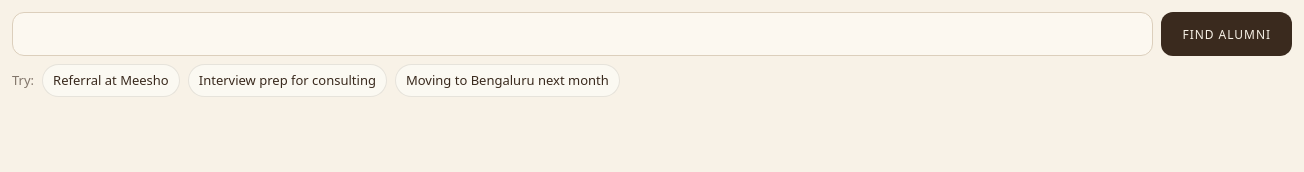
Test: HomeAskBox › asks for more words instead of submitting an empty question
Click the button "Find alumni". click: {"x": 1227, "y": 34}
box: [1162, 12, 1292, 56]
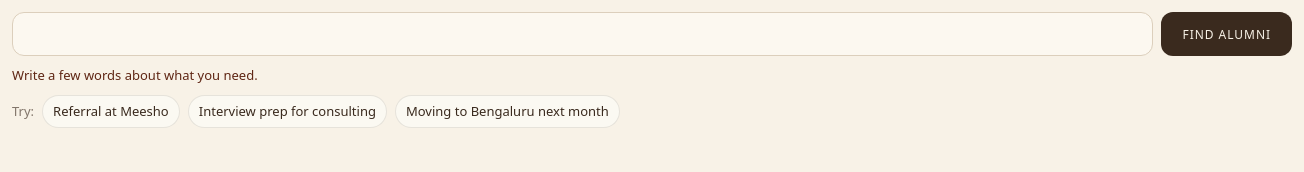
Check: the message reads "Write a few words about what you need.", box [12, 66, 258, 84]
